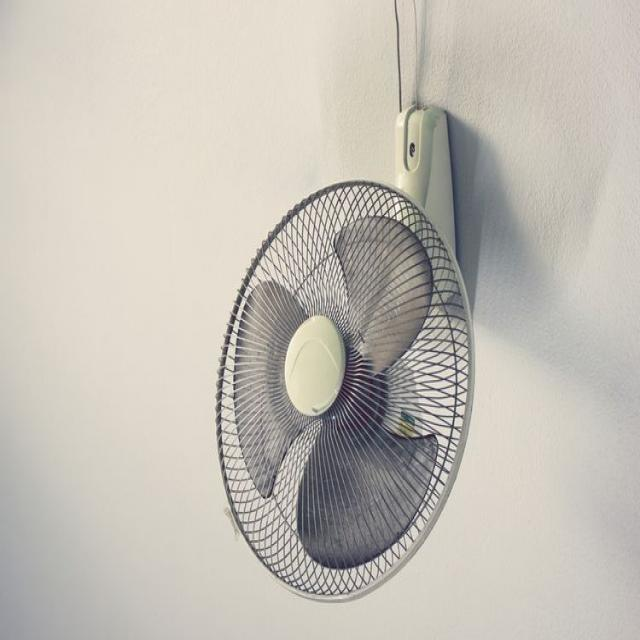fan: (212, 86, 472, 596)
